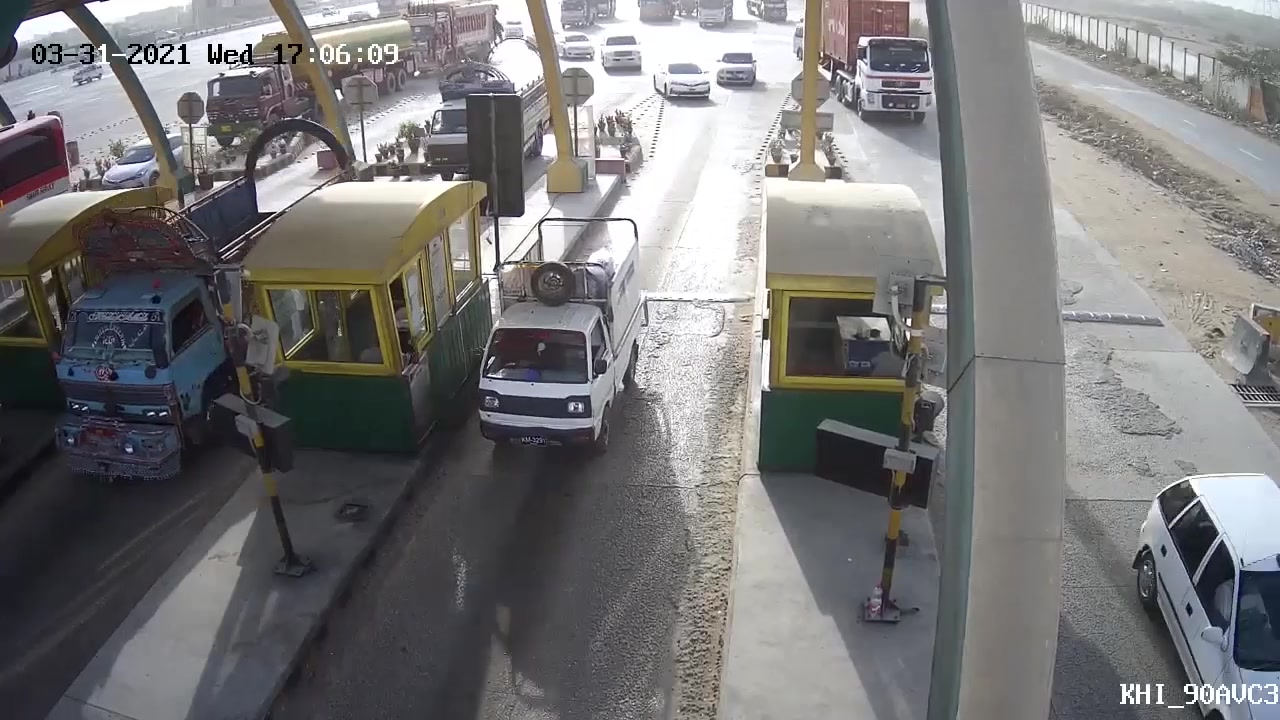F1: (470, 198, 653, 453)
